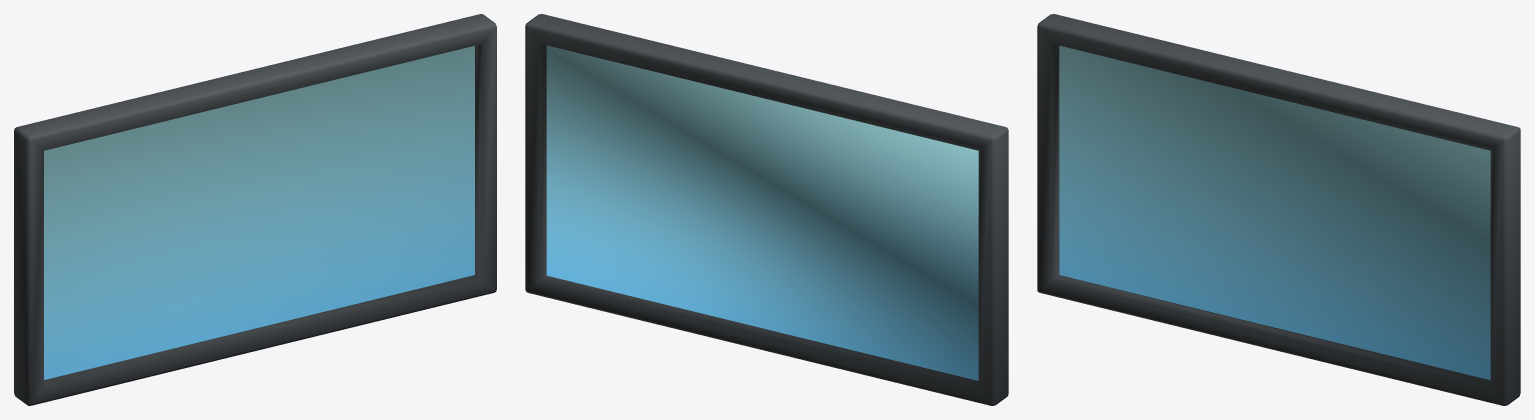
Rendered from Window.fbx.
3 renders of one model, left to right at view 1: azimuth 30°, elevation 25°; view 2: azimuth 150°, elevation 25°; view 3: azimuth 330°, elevation 25°, orthographic.
Visible parts, largest first — view 1: Window; view 2: Window; view 3: Window.
Part boxes in pixels (<box>): Window: <box>14,14,496,405</box>; Window: <box>525,14,1008,405</box>; Window: <box>1037,14,1520,405</box>.
Bounding box in the file's own units: 3403 × 1867 × 200.
